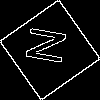N: (25, 25, 76, 68)
